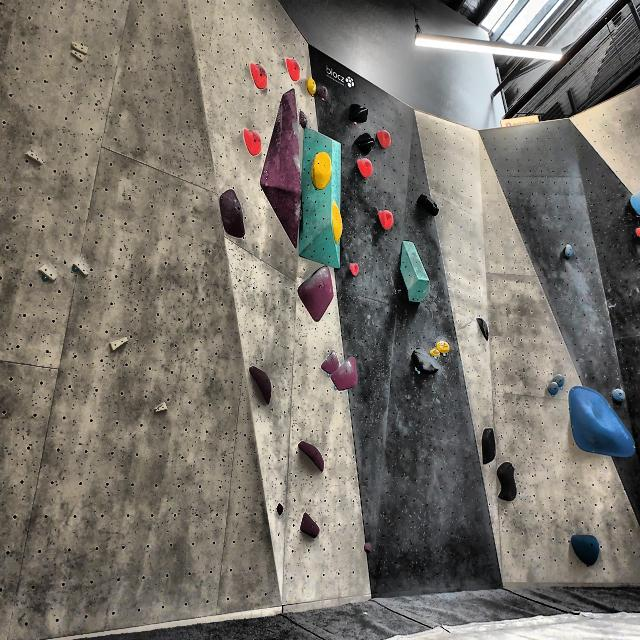Hold: (569, 386, 636, 461), (270, 90, 300, 254), (298, 269, 338, 325), (218, 184, 246, 240), (292, 434, 330, 474), (296, 502, 325, 544), (328, 355, 360, 393), (245, 357, 272, 402), (408, 346, 443, 379), (234, 123, 264, 159), (326, 198, 348, 244), (572, 534, 600, 569), (497, 462, 517, 502), (312, 152, 333, 189), (246, 59, 269, 90), (317, 341, 338, 374), (415, 191, 440, 217), (426, 335, 453, 359), (479, 428, 496, 466), (108, 321, 128, 353), (148, 394, 176, 416), (70, 39, 93, 65), (72, 253, 90, 286), (347, 102, 371, 126), (38, 264, 60, 290), (475, 314, 493, 343), (286, 58, 306, 84), (354, 131, 376, 154), (24, 148, 46, 170), (377, 207, 396, 232), (547, 374, 566, 398), (354, 155, 374, 177), (613, 382, 629, 404), (627, 188, 640, 214), (378, 125, 393, 147), (563, 241, 577, 264), (305, 75, 318, 99), (296, 107, 308, 131), (348, 262, 363, 278), (318, 86, 332, 98), (274, 502, 284, 517), (364, 542, 372, 554)
